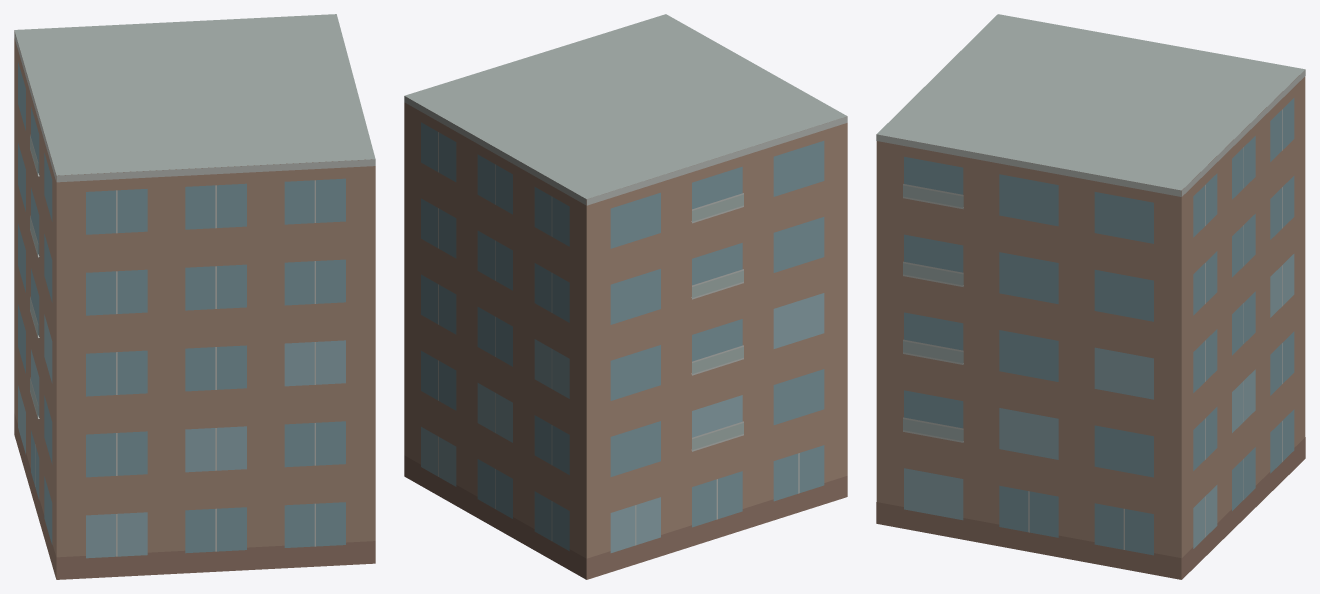
Rendered from survey-upis-32894136.glb.
The picture shows the model from 3 angles, left to right: view 1: azimuth 30°, elevation 25°; view 2: azimuth 150°, elevation 25°; view 3: azimuth 270°, elevation 25°; orthographic projection. The views are drawn at different scales.
Visible parts, largest first — view 1: survey-upis-32894136.tmp; view 2: survey-upis-32894136.tmp; view 3: survey-upis-32894136.tmp.
Part boxes in pixels (left/top/right/bottom): survey-upis-32894136.tmp: left=14, top=14, right=375, bottom=579; survey-upis-32894136.tmp: left=404, top=14, right=847, bottom=579; survey-upis-32894136.tmp: left=876, top=14, right=1305, bottom=579.
Size of the model in its own units: 14.06 by 14.45 by 14.44.
